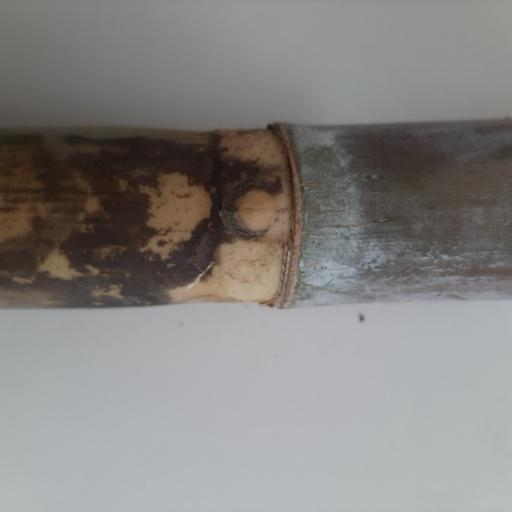Bud: (226, 186, 283, 235)
